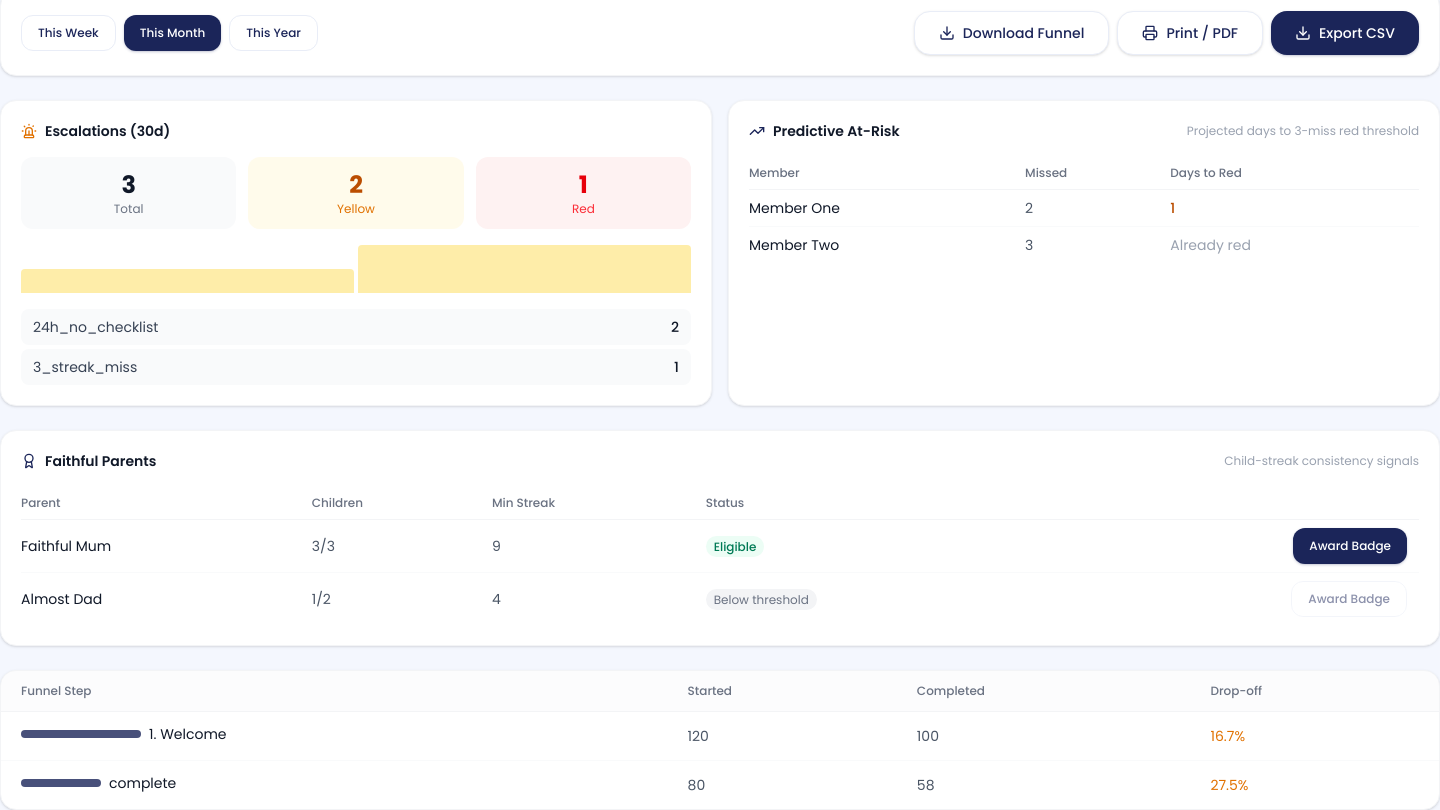
AnalyticsClient Faithful Parents card › awards the badge for an eligible parent and refreshes the row status
(page scrolled)
Check: the heading "Faithful Parents" is shown, box x1=45 y1=450 x2=156 y2=470
Click the button "Award Badge" in the row of "Faithful Mum" at (1350, 546), box x1=1293 y1=528 x2=1407 y2=564
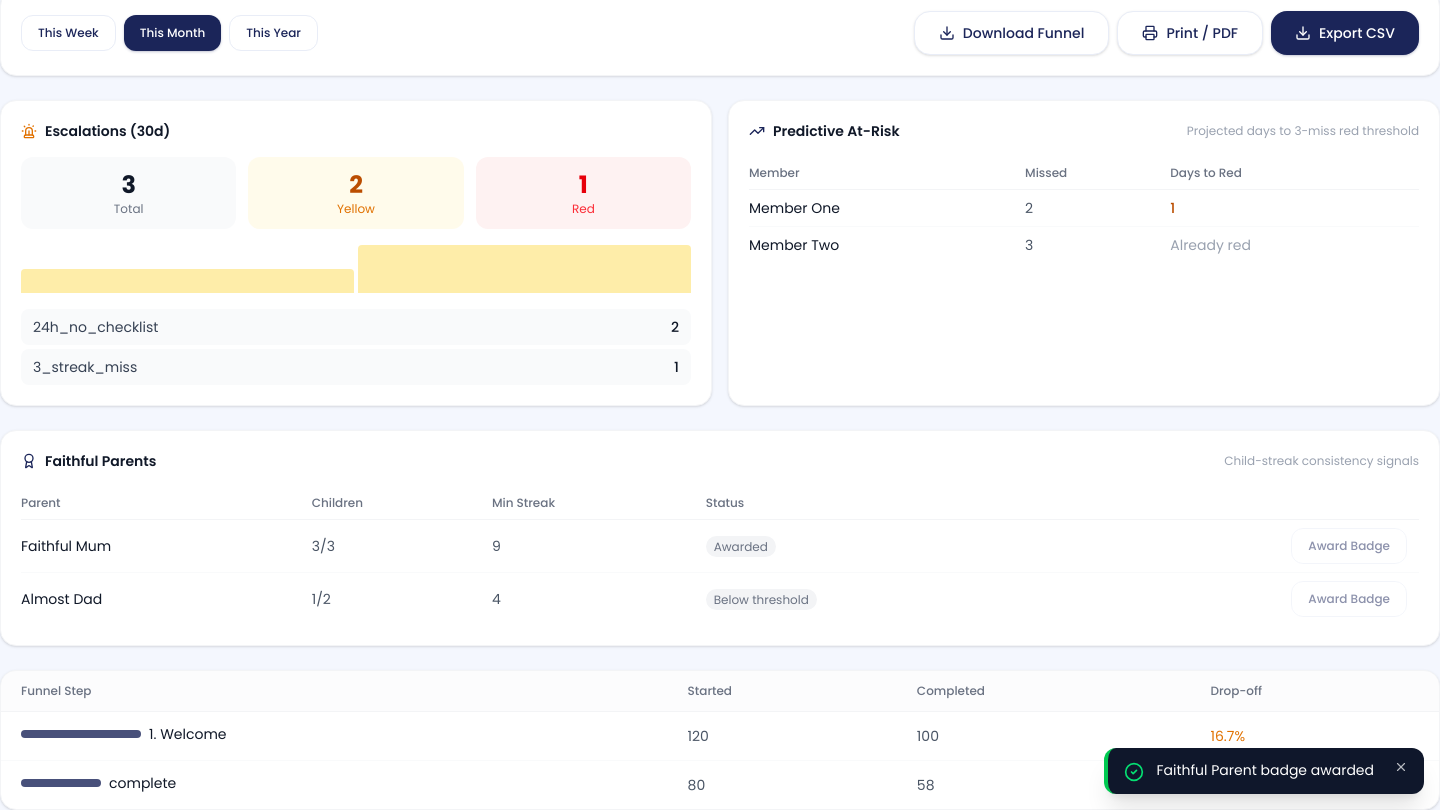
Check: the text "Awarded" is shown, box x1=706 y1=536 x2=776 y2=556
